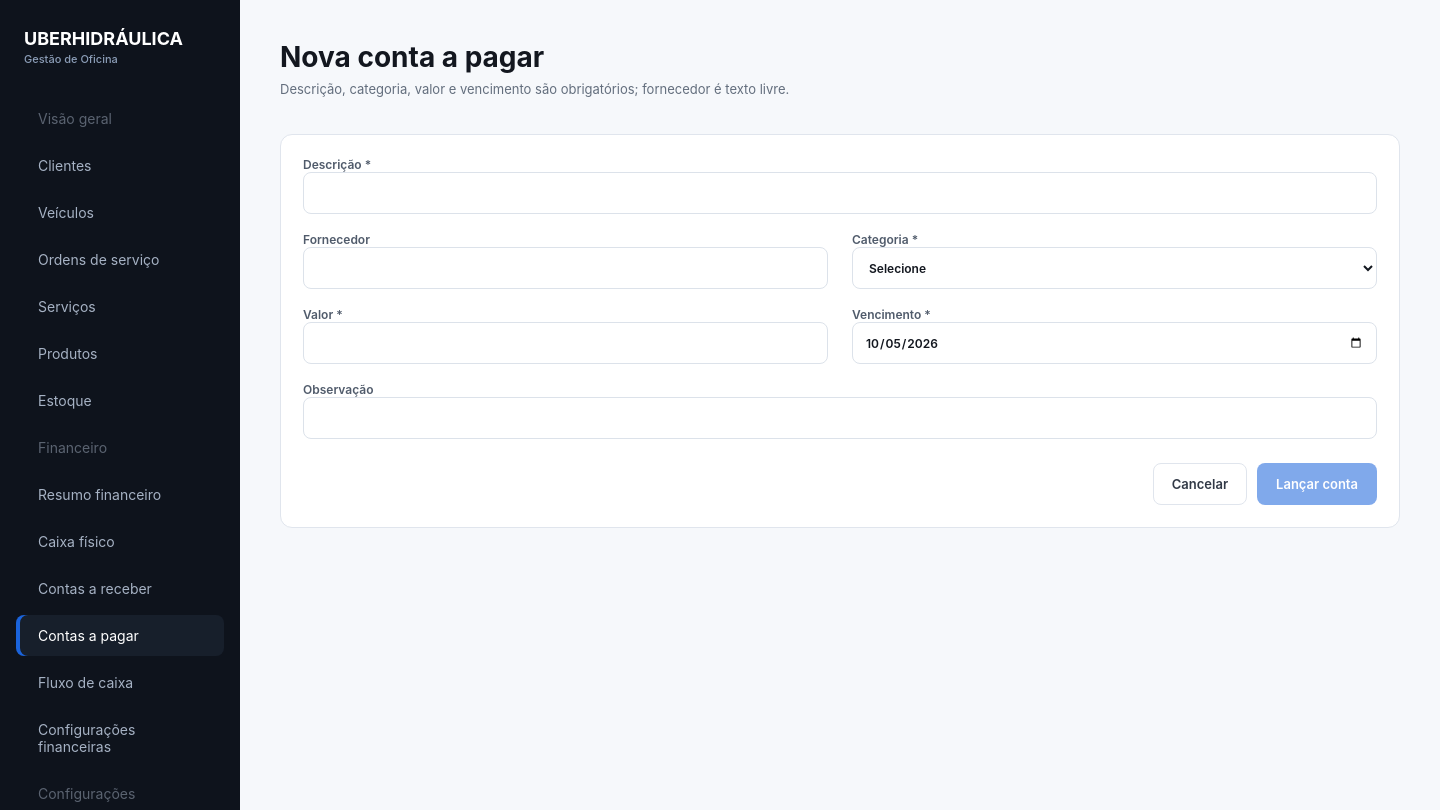
nova conta a pagar exige vencimento e envia chave de idempotência
Type "Aluguel de setembro" into the field labelled "Descrição *".
click(840, 193); type("Aluguel de setembro")  # box top-left (303, 172), bottom-right (1377, 214)
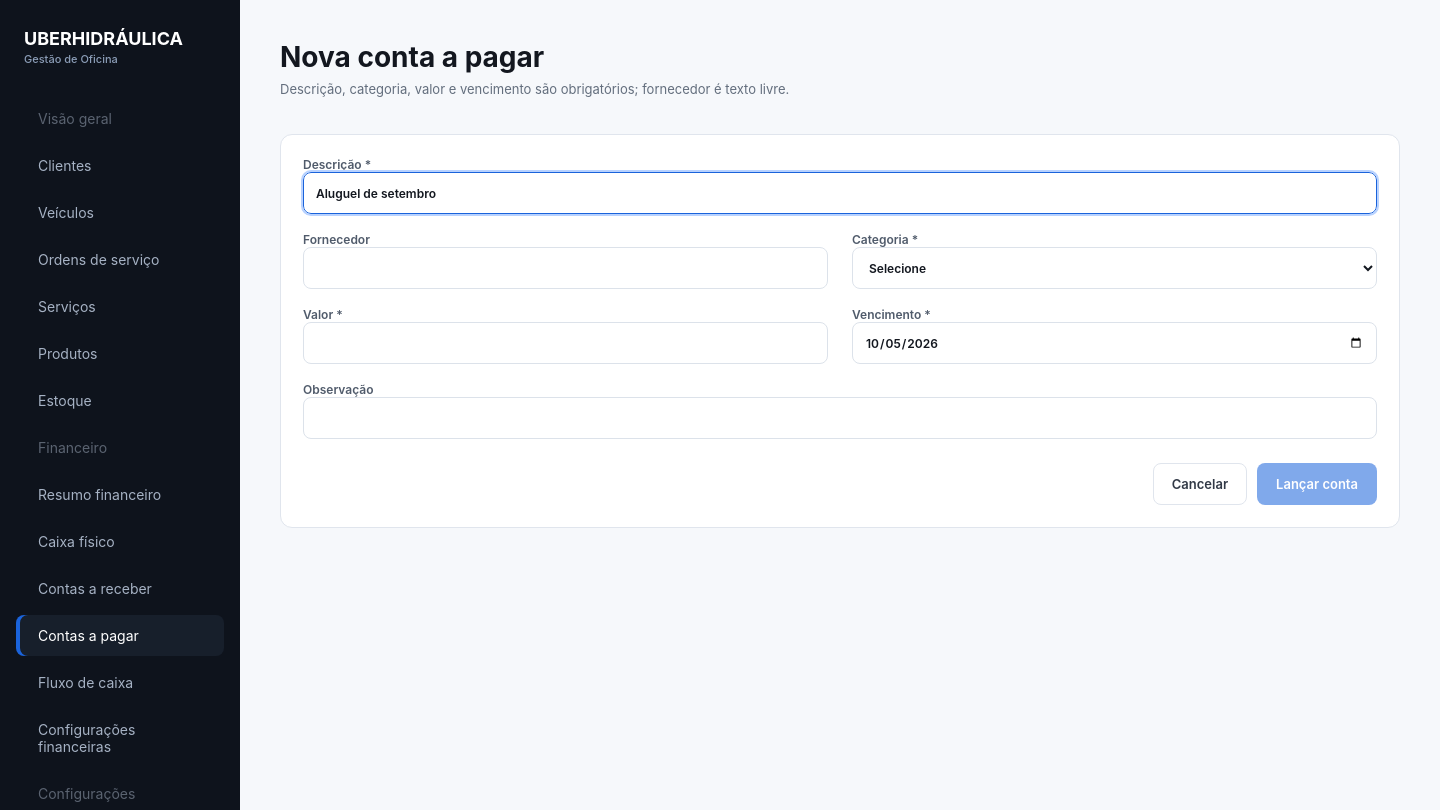
Select "Aluguel" in the dropdown labelled "Categoria *" at (1114, 268), box top-left (852, 247), bottom-right (1377, 289)
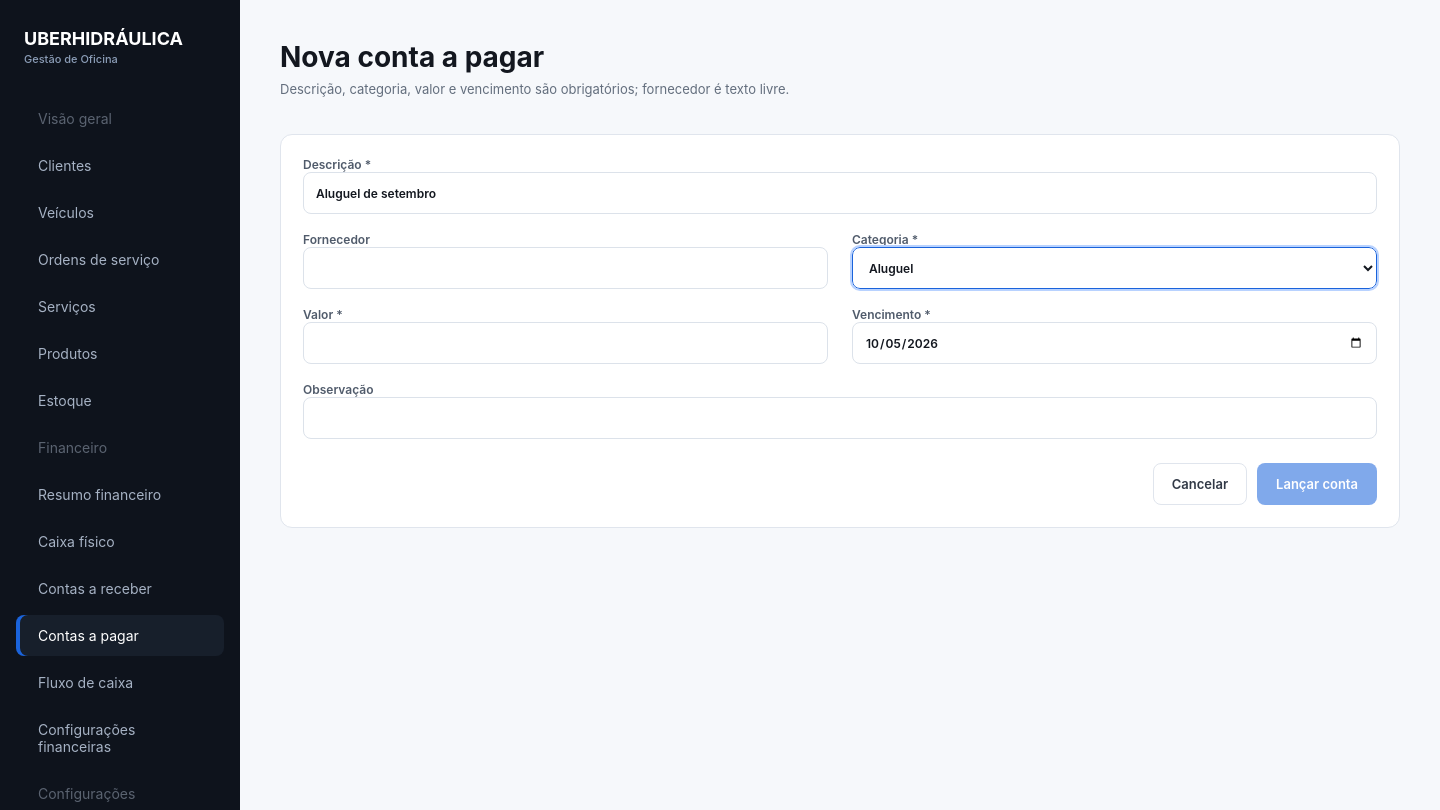
Type "3000" into the number field labelled "Valor *".
click(566, 343); type("3000")  # box top-left (303, 322), bottom-right (828, 364)
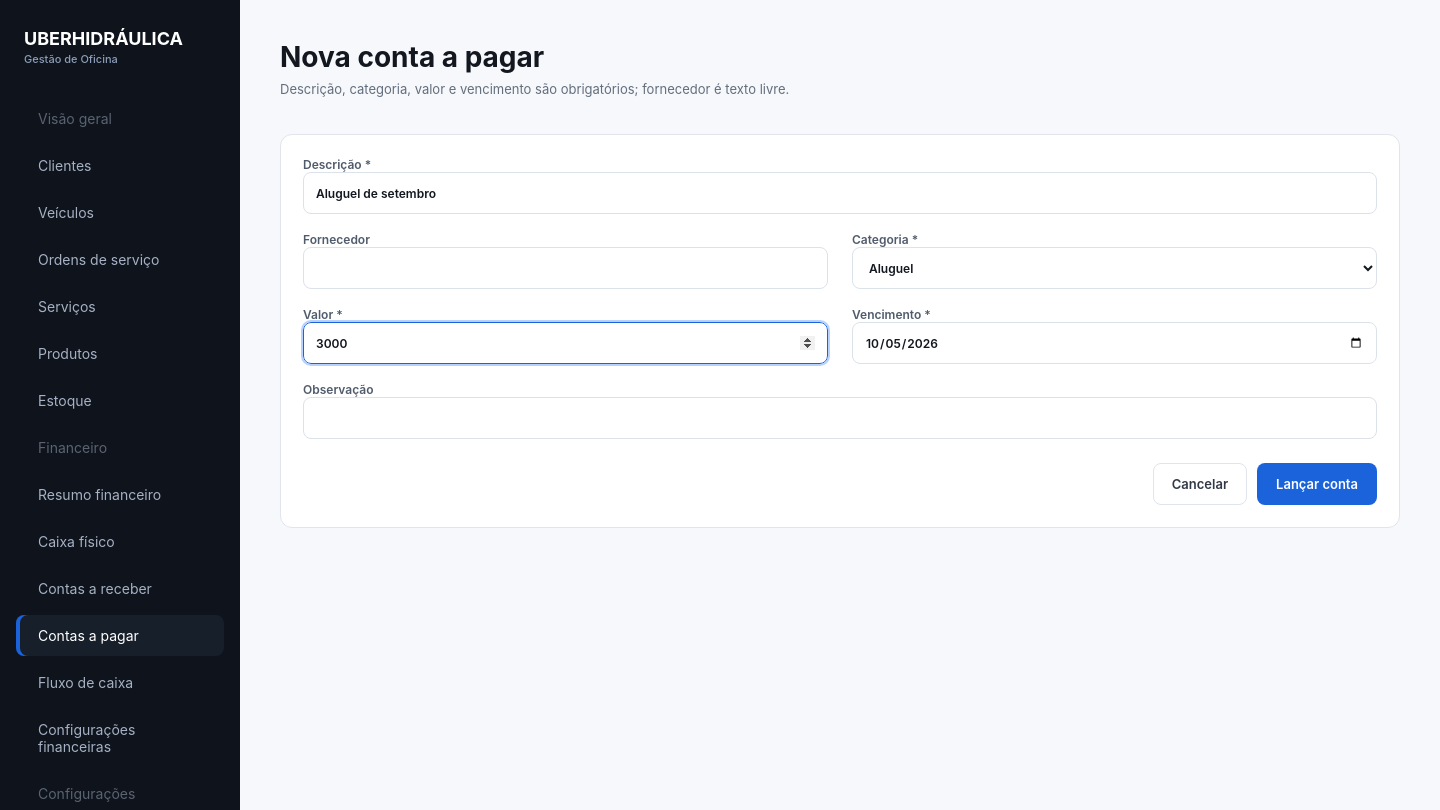
Clear the date field labelled "Vencimento *" at (1114, 343), box top-left (852, 322), bottom-right (1377, 364)
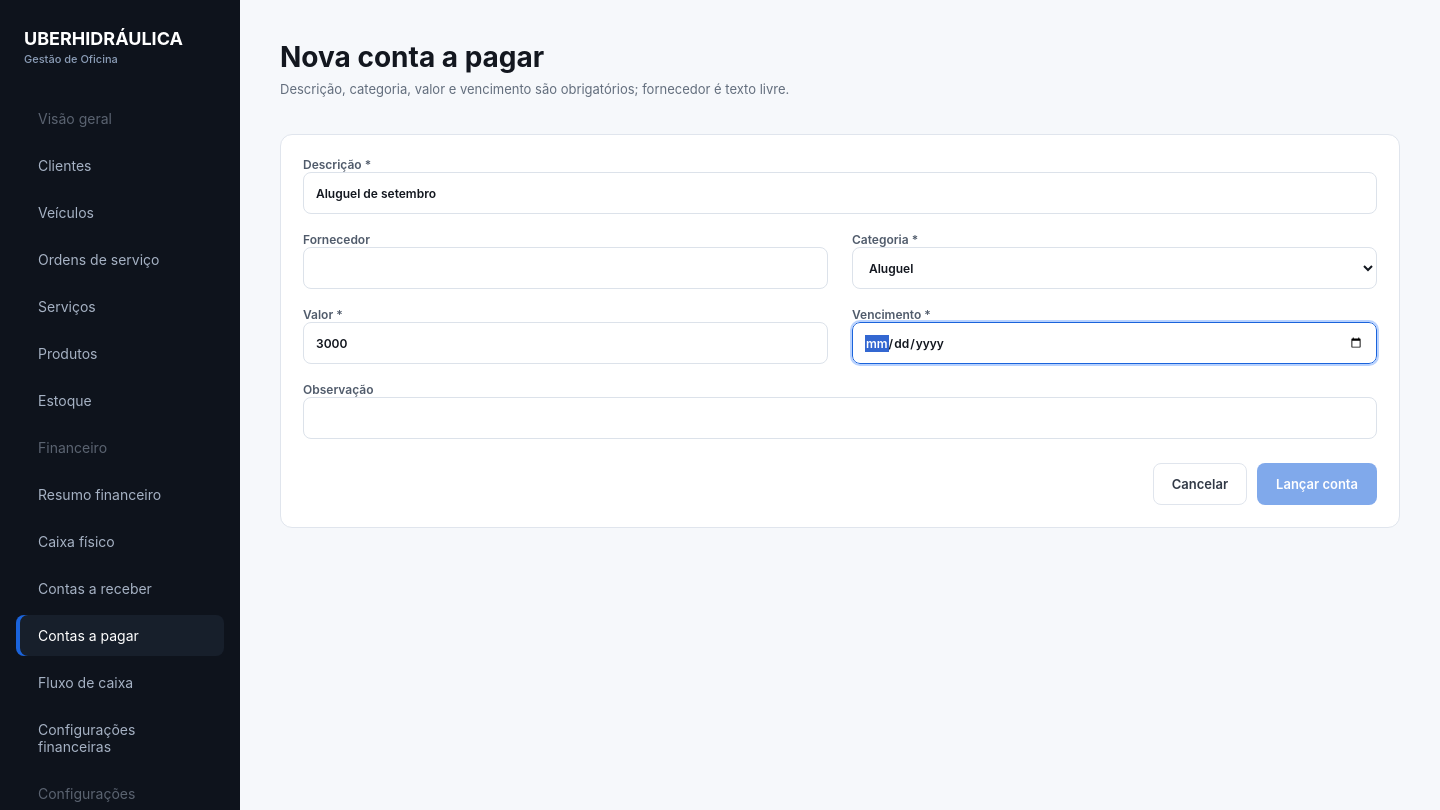
Now the button "Lançar conta" is disabled, box top-left (1257, 463), bottom-right (1377, 505)
Type "2026-09-30" into the date field labelled "Vencimento *".
click(1114, 343); type("2026-09-30")  # box top-left (852, 322), bottom-right (1377, 364)
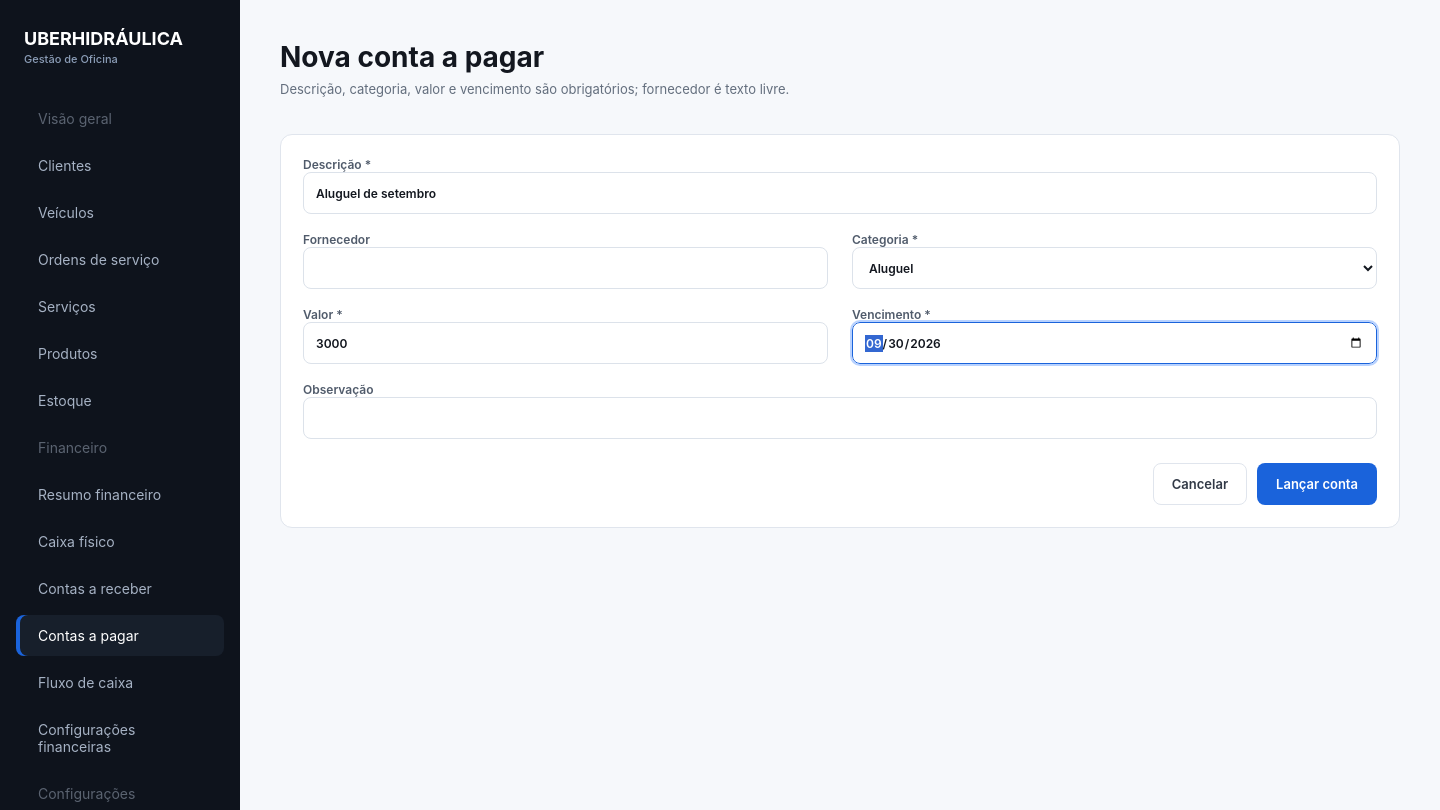
Click the button "Lançar conta".
click(1317, 484)  # box top-left (1257, 463), bottom-right (1377, 505)
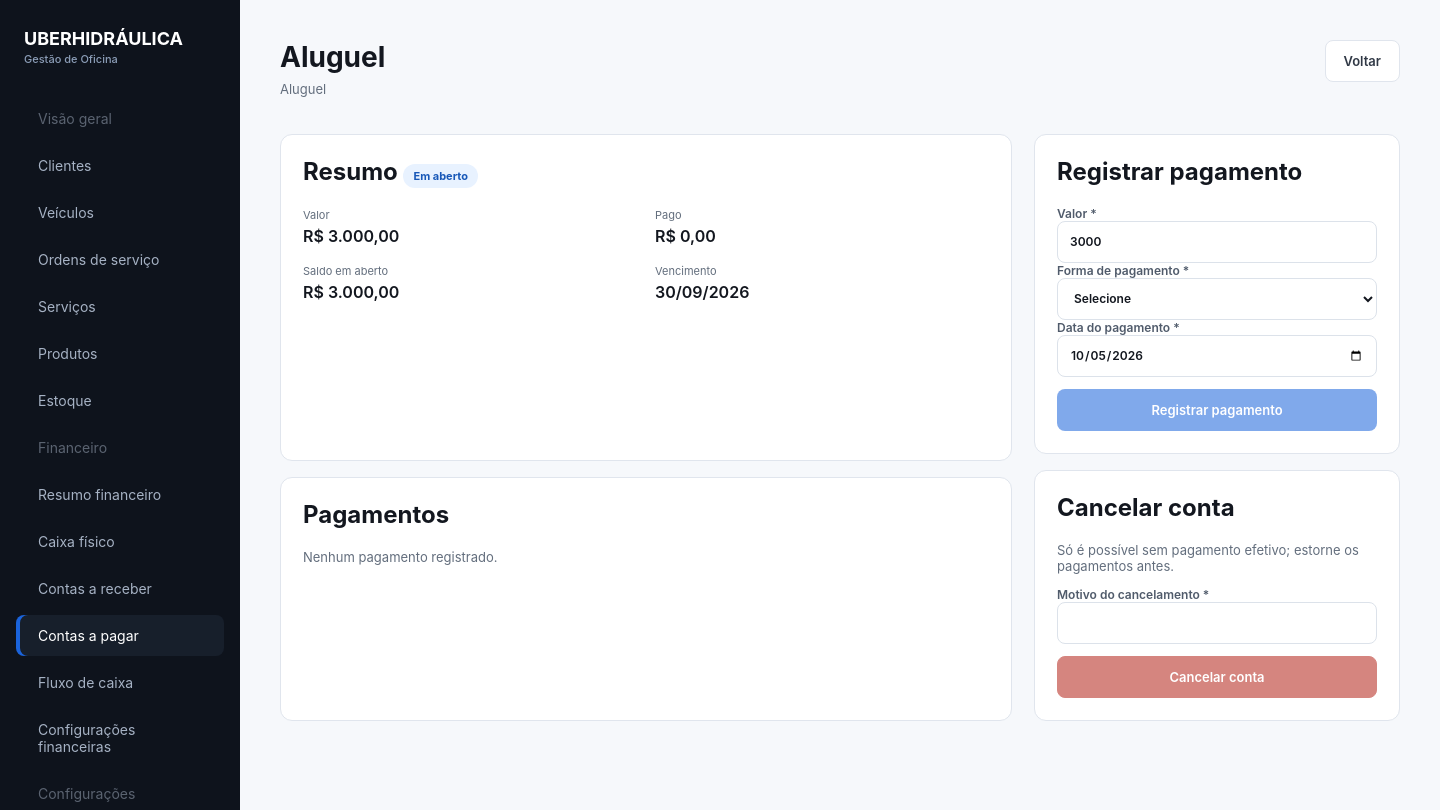
Now the text with test id "payable-balance" shows "3.000,00", box top-left (303, 282), bottom-right (399, 302)
